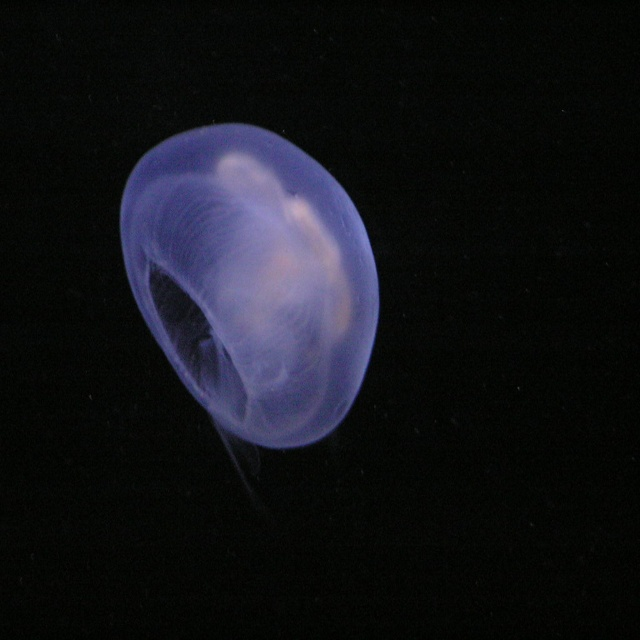Jellyfish: (118, 117, 380, 496)
